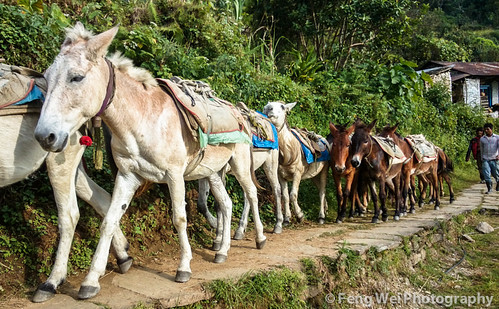equine: (27, 19, 277, 302), (254, 84, 344, 233), (346, 117, 419, 226), (381, 118, 450, 211)
human: (476, 121, 499, 194), (465, 124, 491, 178)
